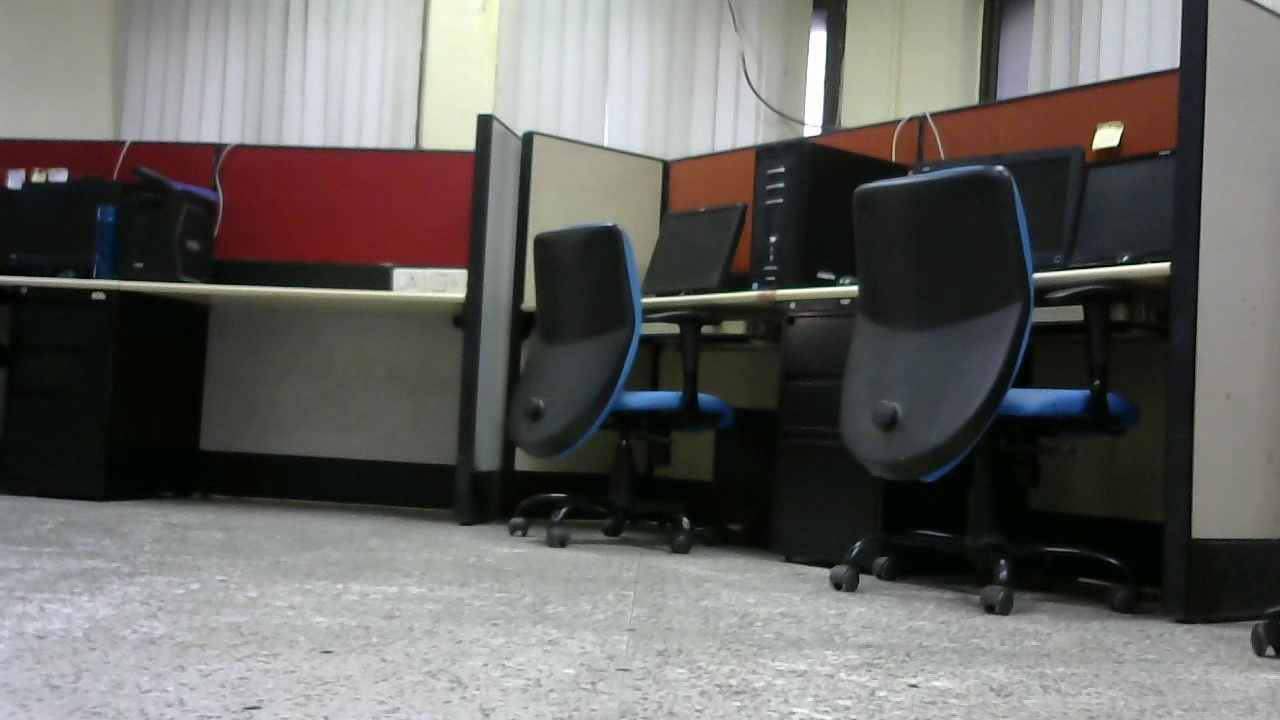chair: (842, 163, 1144, 619), (512, 221, 752, 550)
